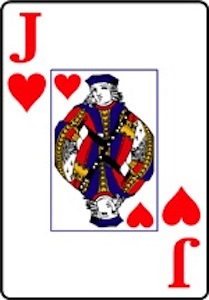JackOfHearts: (1, 1, 206, 299)
